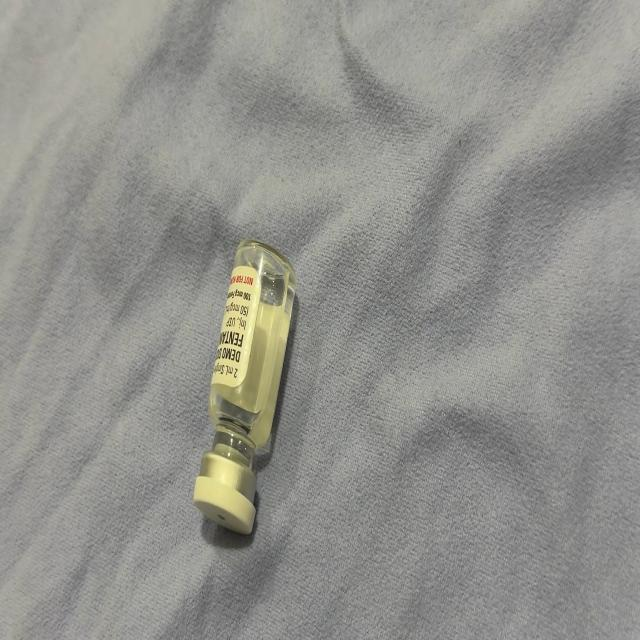fentanl_citrat: (195, 243, 295, 531)
